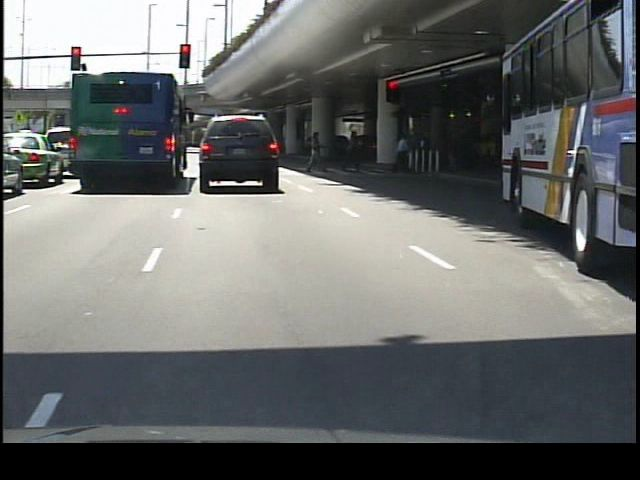person: (344, 125, 366, 178), (306, 125, 328, 174), (392, 130, 412, 174)
